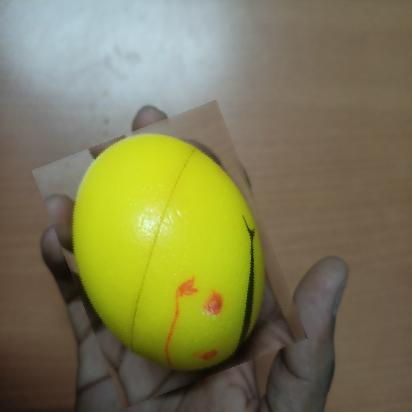Yellowball: (52, 113, 288, 396)
